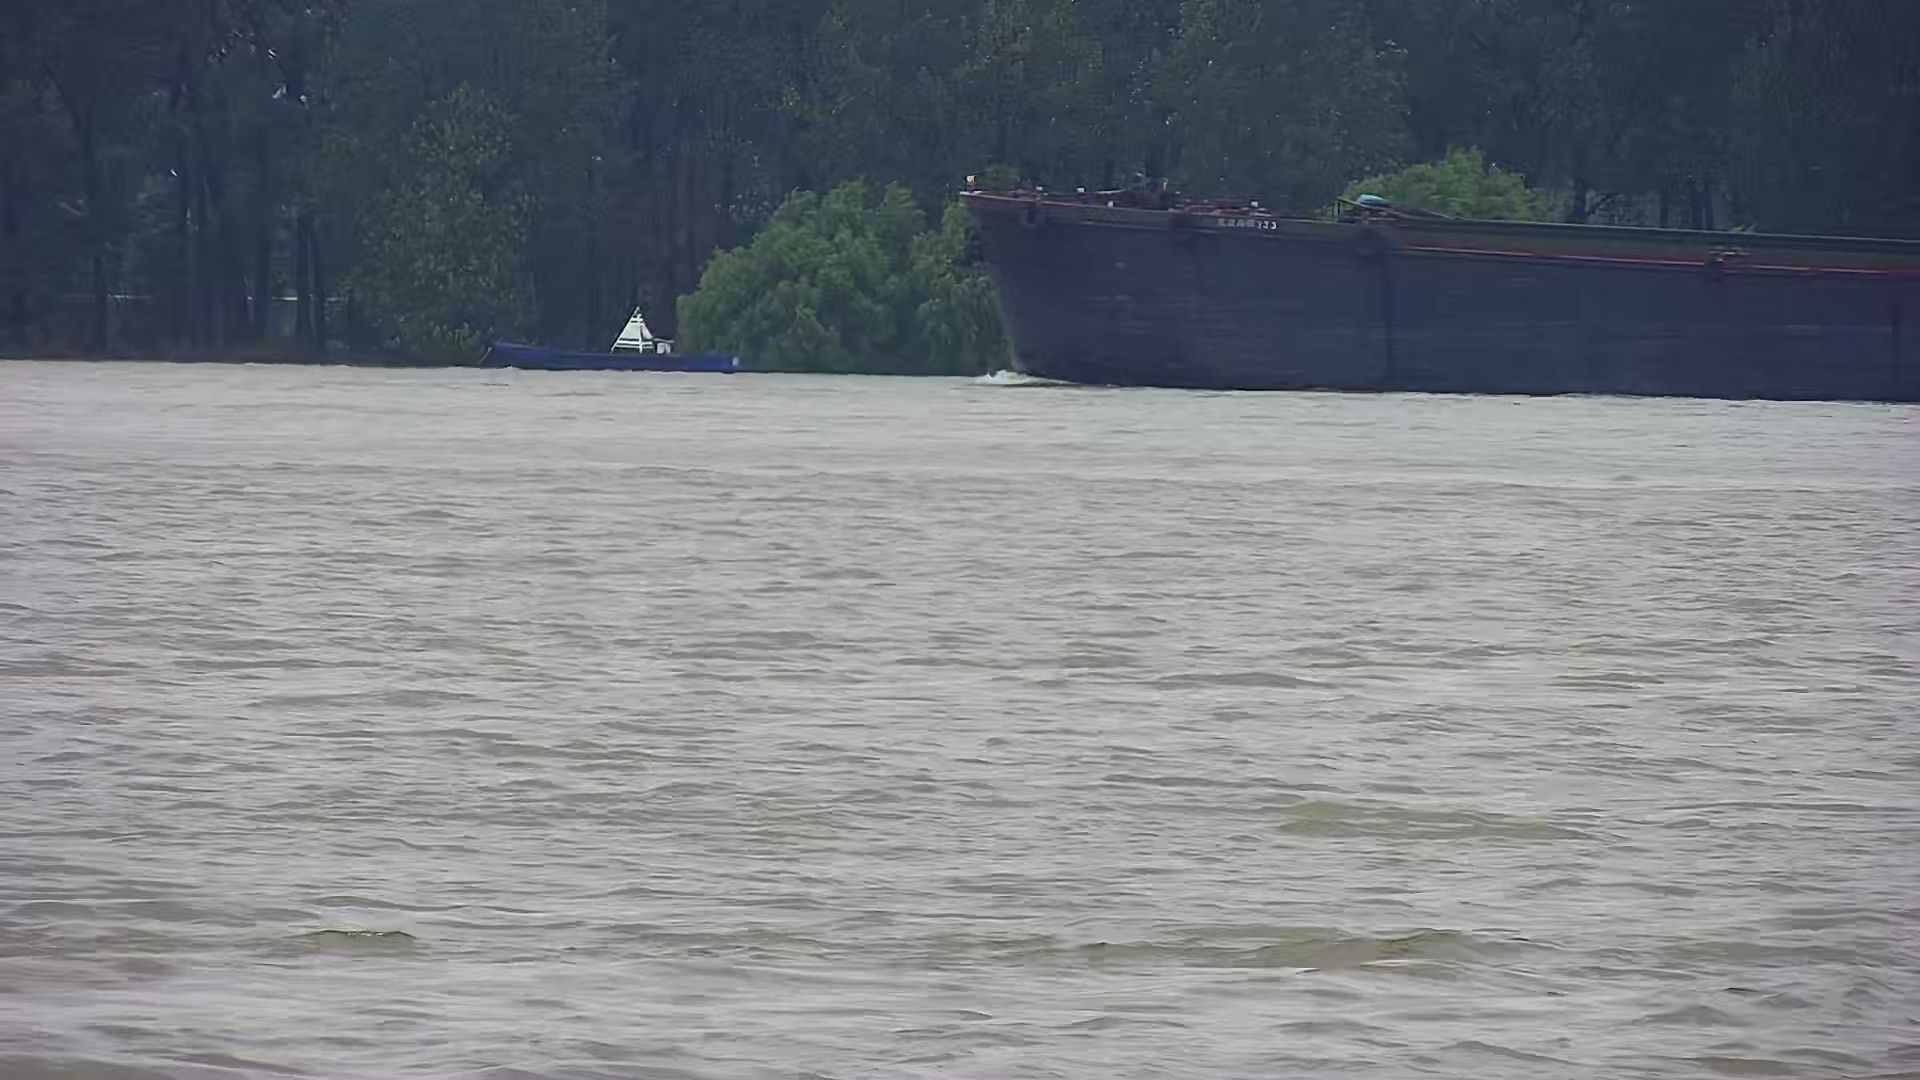boat: (463, 301, 740, 382)
ship: (945, 167, 1920, 410)
